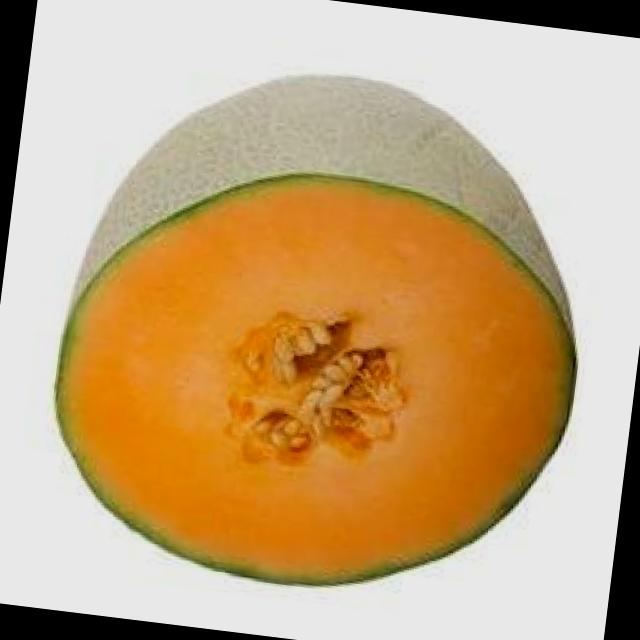cantaloupe: (32, 42, 608, 614)
